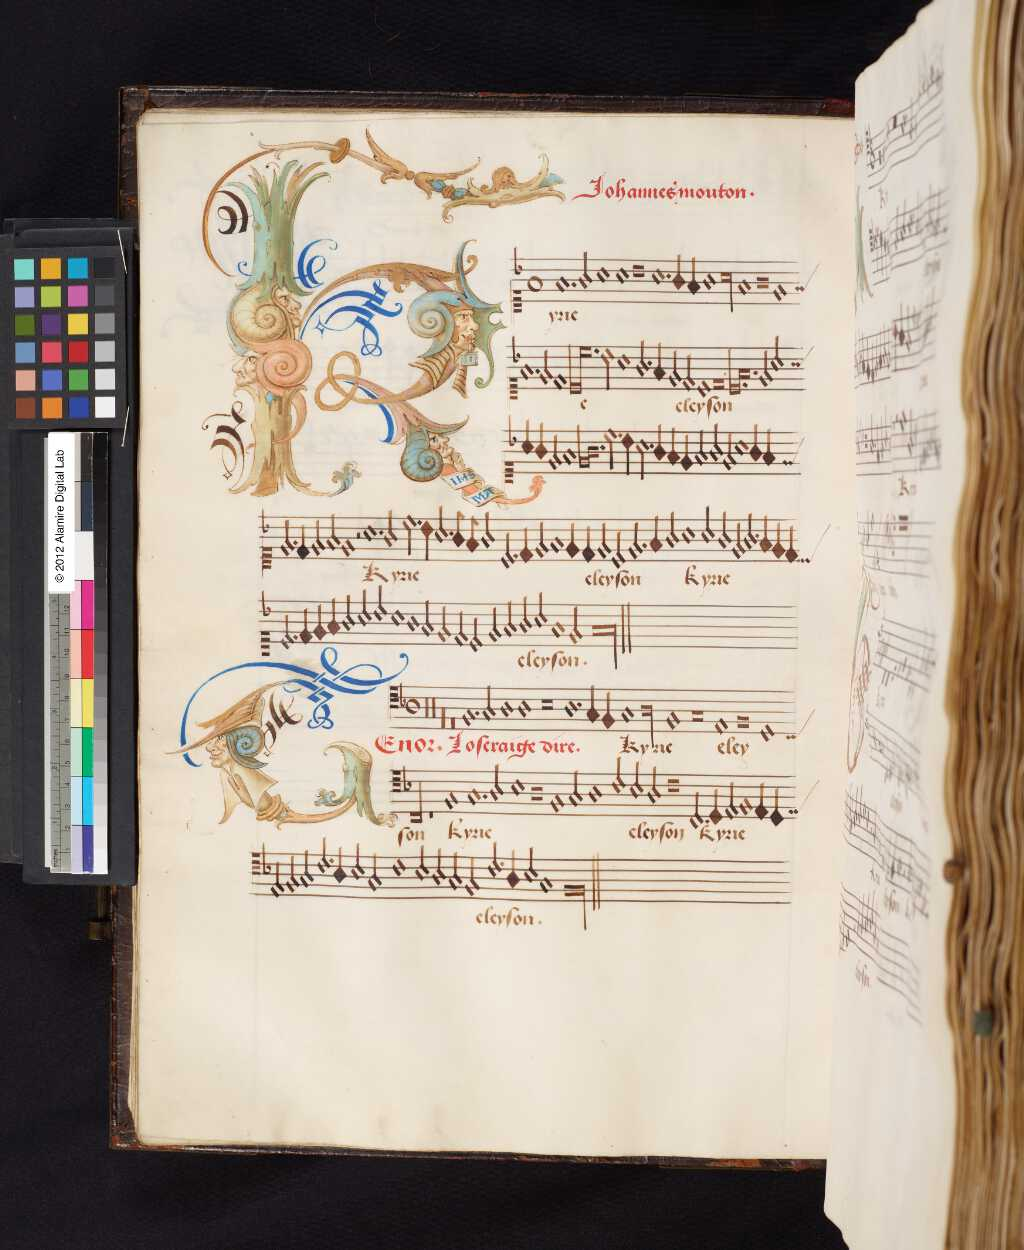breve_10: (709, 372, 727, 393)
c clef_11: (505, 370, 520, 409)
custos_6: (786, 342, 806, 374)
flat_5: (512, 331, 523, 369)
l1semibreve_11: (566, 339, 583, 399), (725, 348, 742, 398)
l2semibreve_4: (577, 339, 592, 396)
l2semibreve_8: (737, 364, 751, 382)
minim_10: (681, 344, 695, 396)
minim_5: (600, 338, 616, 395)
minim_6: (769, 328, 786, 377)
minim_7: (634, 330, 649, 384)
minim_9: (758, 339, 774, 395), (667, 341, 682, 392), (537, 339, 553, 388)
point: (642, 353, 655, 372), (589, 343, 601, 359), (529, 360, 540, 378), (718, 366, 729, 381), (749, 366, 759, 379), (740, 379, 750, 391)
semibreve_10: (553, 368, 569, 396)
semibreve_11: (695, 372, 712, 403)
semibreve_6: (616, 344, 634, 377)
semibreve_8: (519, 358, 534, 384)
semiminim_8: (652, 335, 667, 388)
